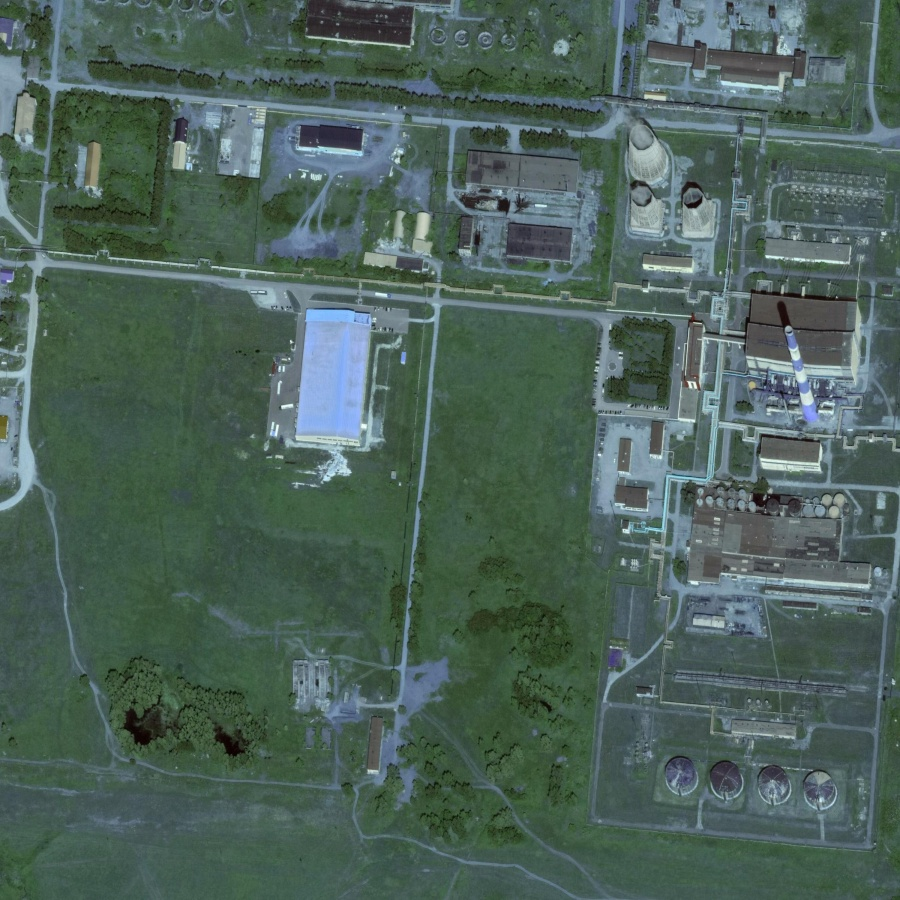PowerPlant: (599, 114, 892, 473), (658, 705, 868, 871)
